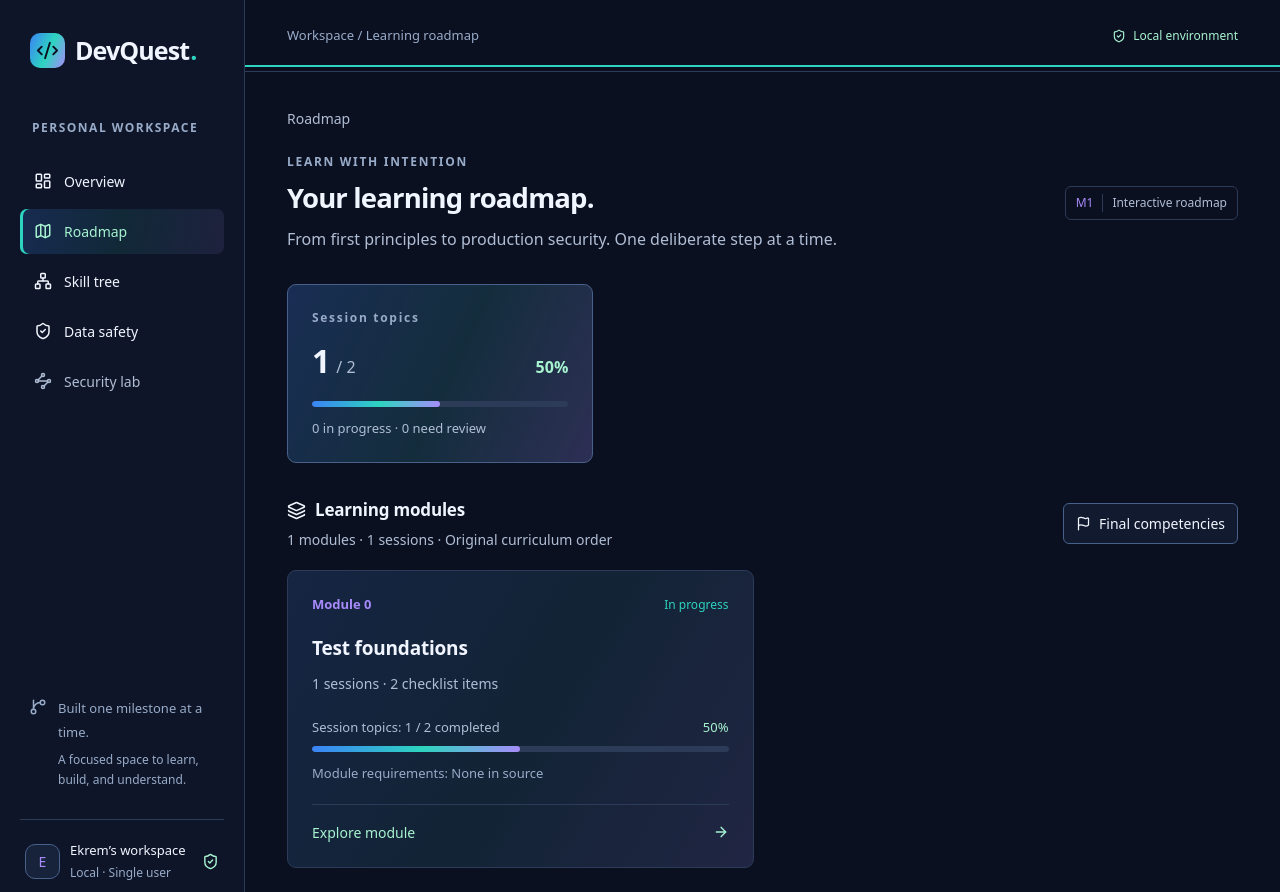
Test: interactive roadmap › renders backend module counts and navigates to session topics
Expected: the link "Test foundations" is shown, [312,635,468,661]
Expected: the 1st text "50%" is shown, [536,355,568,379]
Click the link with aria-label "Open Module 0: Test foundations": (364, 832) [312,804,728,843]
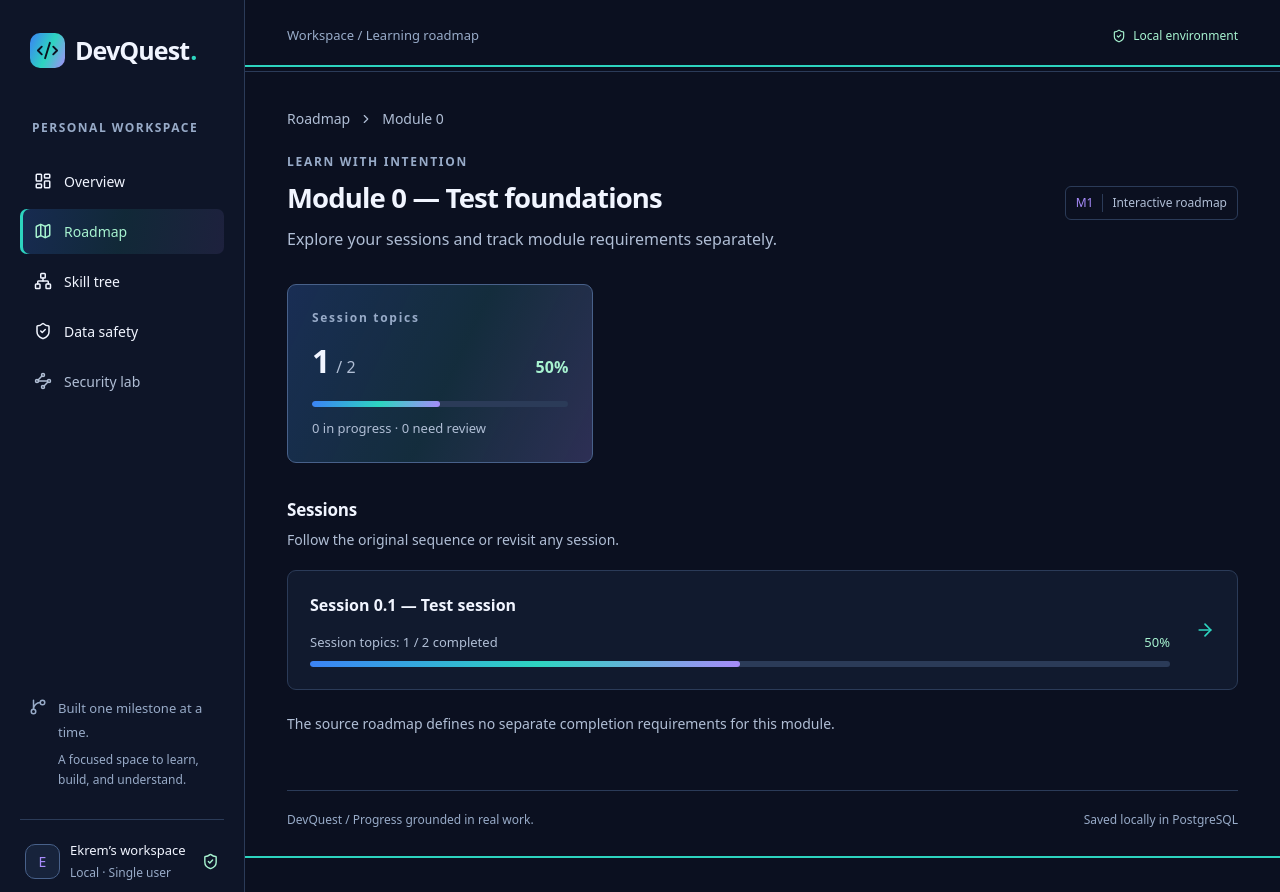
Result: the heading "Module 0 — Test foundations" is shown at [287,179,662,216]
Click the link "Session 0.1 — Test session": (413, 605) [287,570,1238,690]
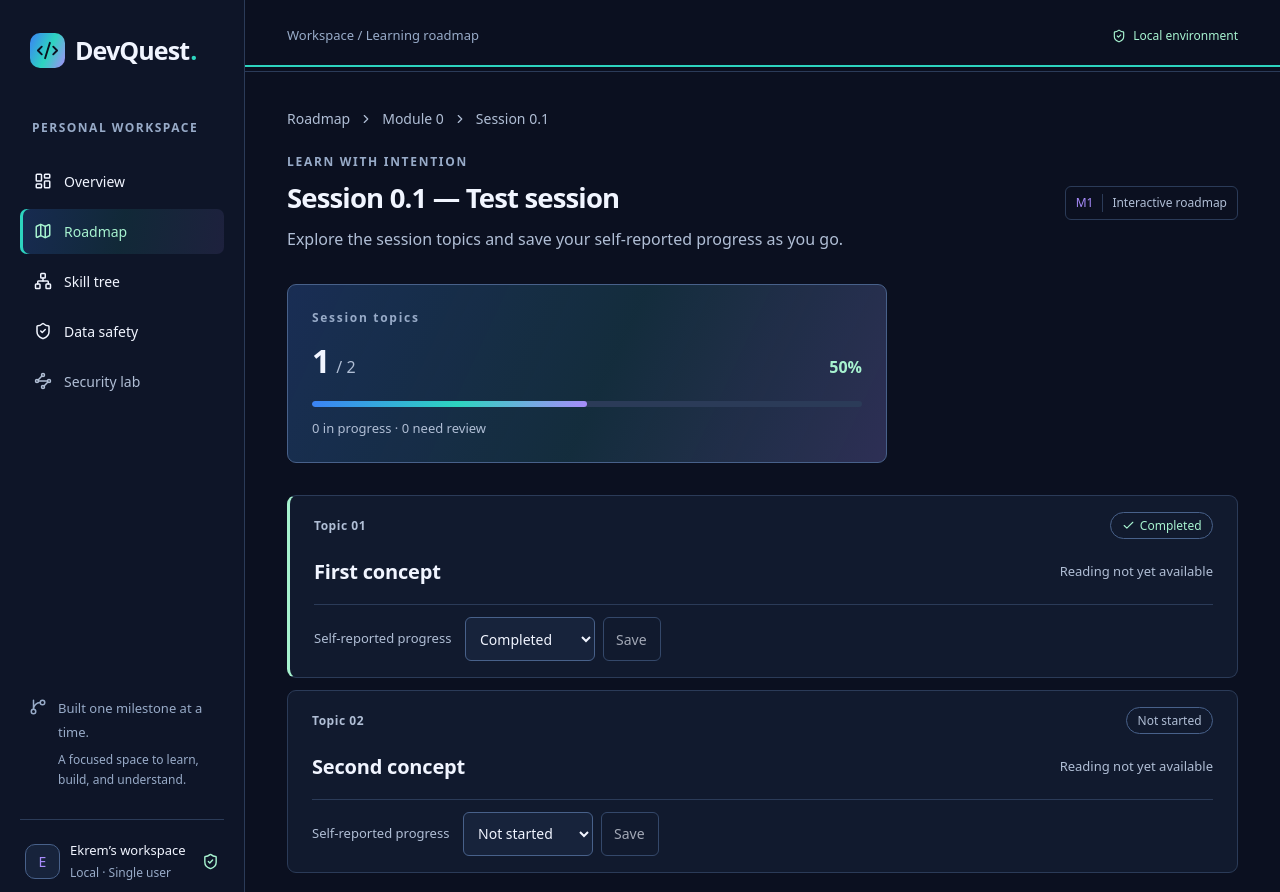
Result: the heading "Session 0.1 — Test session" is shown at [287,179,619,216]
Result: the dropdown named "Status for First concept" shows "Completed" at [465,617,595,661]
Result: the dropdown named "Status for Second concept" shows "Not started" at [463,812,593,856]
